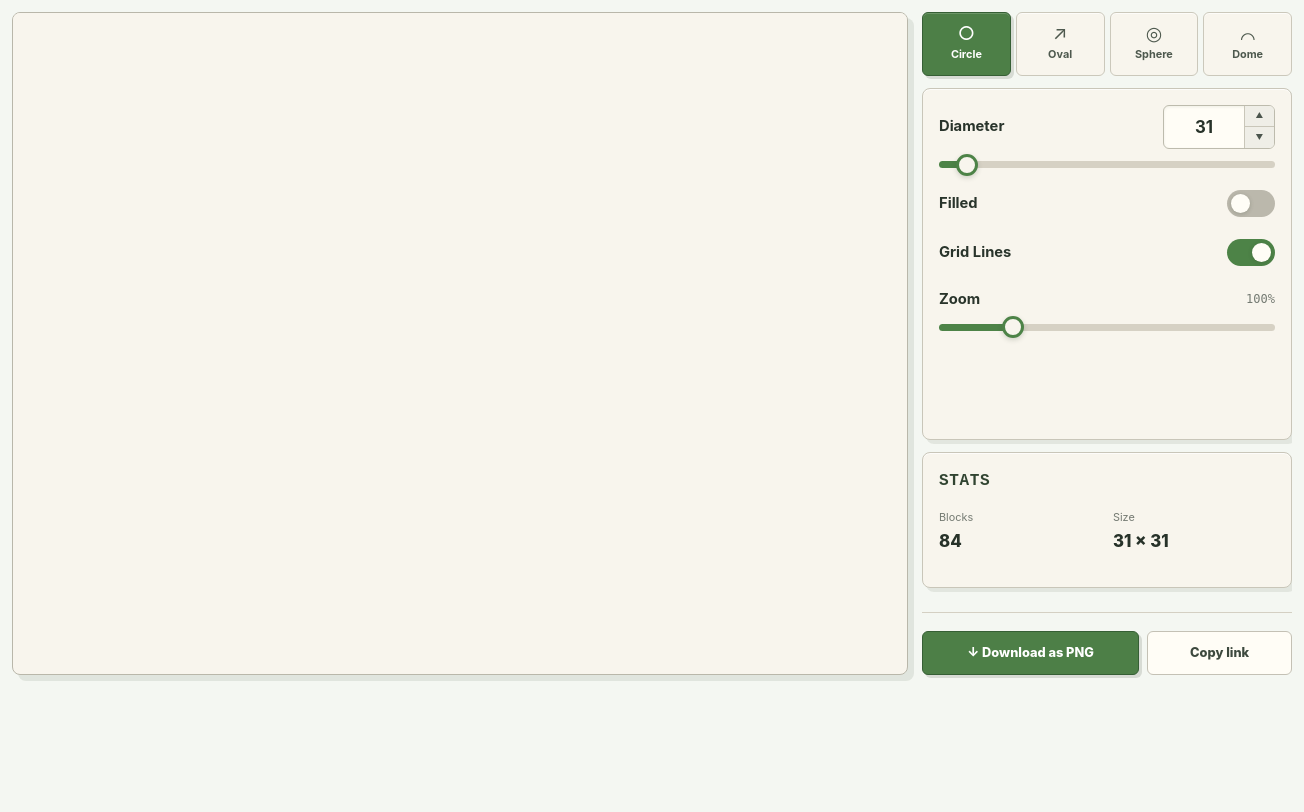
Test: generator URL boundaries › switches geometry shapes in place and stores the active shape in the URL
This screenshot has width=1304, height=812.
Step 1. Click the button "⌒ Dome" → (1248, 44), box [1203, 12, 1292, 76]
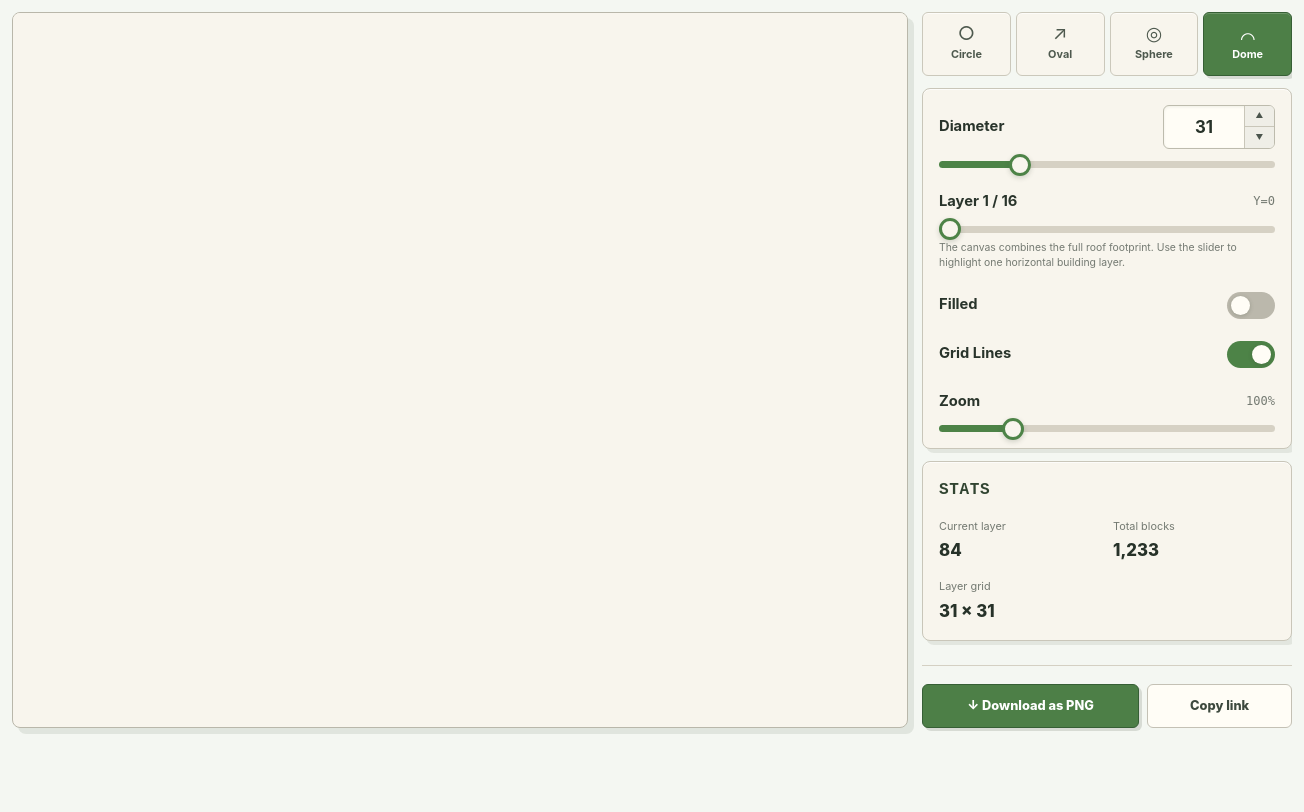
expect the number field labelled "Diameter" holds "31": met, box [1164, 106, 1244, 148]
expect the slider named "Layer slider" is shown: met, box [939, 226, 1275, 232]
